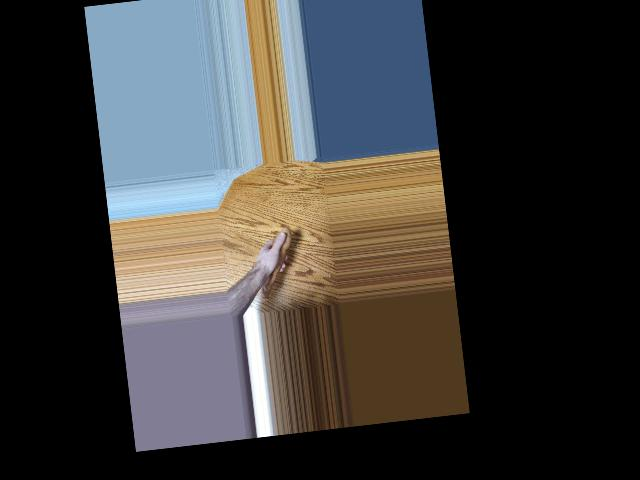sweet_potato: (251, 226, 300, 304)
